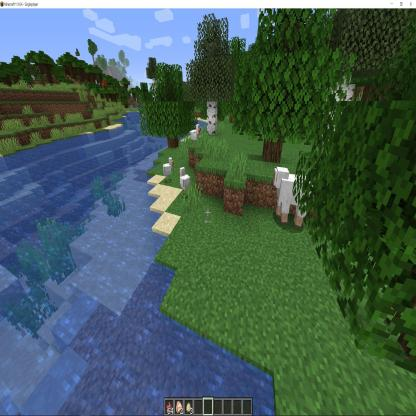minecraft-pigs: (178, 165, 191, 198), (162, 156, 174, 184), (189, 122, 201, 146)
